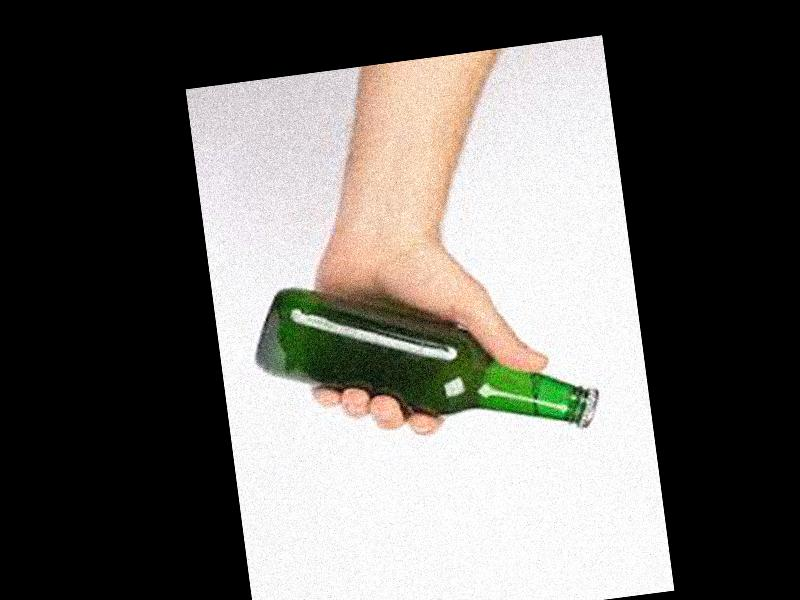Beer: (250, 250, 604, 467)
